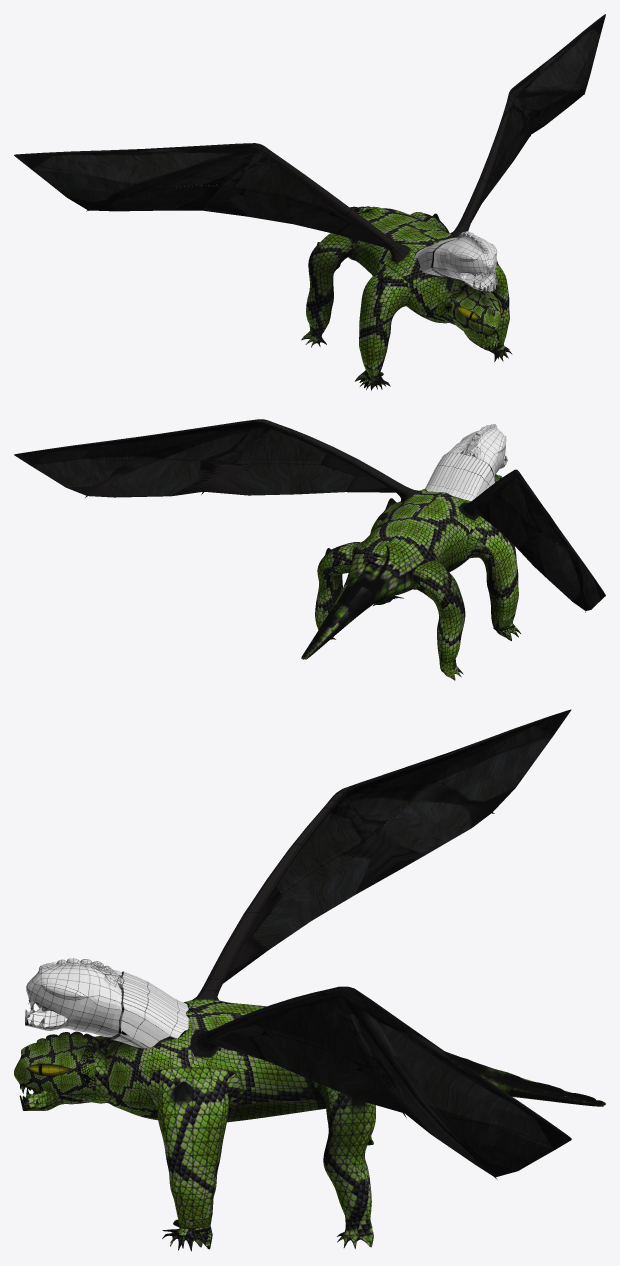
File: monster_000037.obj
3 renders of one model, top to bottom at view 1: azimuth 30°, elevation 25°; view 2: azimuth 150°, elevation 25°; view 3: azimuth 270°, elevation 25°, orthographic. The views are drawn at different scales.
Parts seen in each view (by area): view 1: body_Cube, secondHead_Cube.002; view 2: body_Cube, secondHead_Cube.002; view 3: body_Cube, secondHead_Cube.002.
Boxes of the visible parts, x1,y1,x2,y2 form: body_Cube: [14, 14, 605, 390]; secondHead_Cube.002: [415, 231, 498, 292]; body_Cube: [14, 419, 605, 680]; secondHead_Cube.002: [424, 424, 507, 501]; body_Cube: [14, 709, 605, 1251]; secondHead_Cube.002: [25, 958, 188, 1048].
Size of the model in its own units: 9.34 by 3.3 by 5.51.
